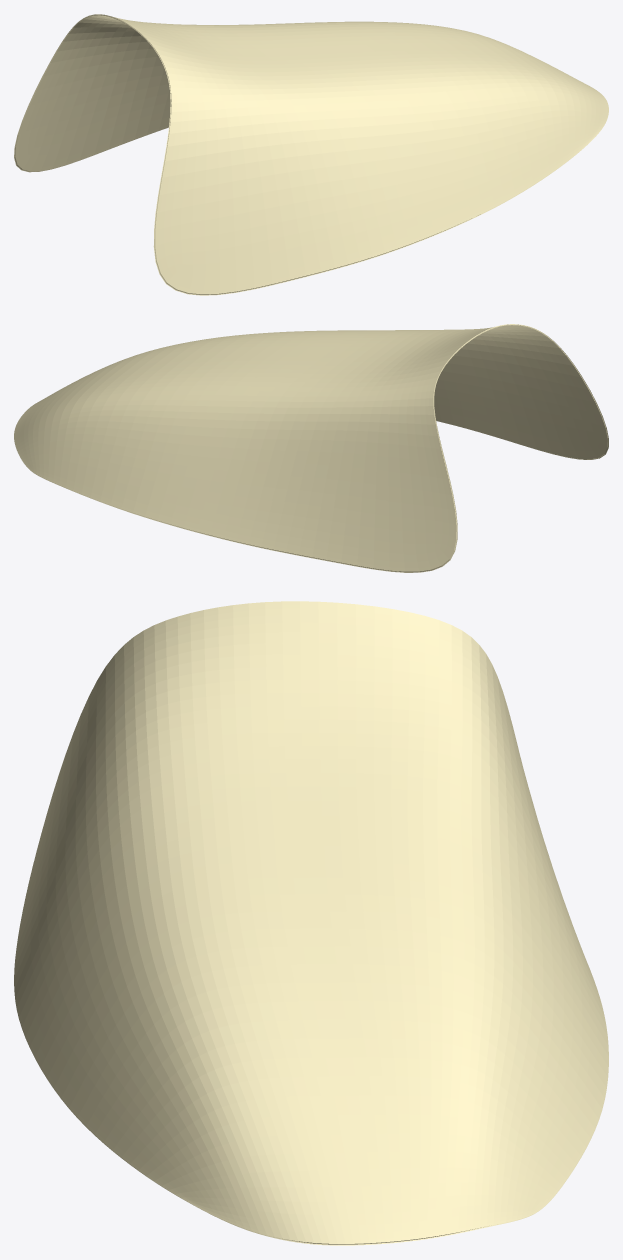
The model's file is frontRightCream.obj.
3 views of the same model, one above another, from view 1: azimuth 30°, elevation 25°; view 2: azimuth 150°, elevation 25°; view 3: azimuth 270°, elevation 25° (orthographic). The views are drawn at different scales.
Visible parts, largest first — view 1: Plane; view 2: Plane; view 3: Plane.
Boxes of the visible parts, box(x1,y1,x2,y2) form: Plane: box(14, 14, 608, 295); Plane: box(14, 324, 608, 572); Plane: box(14, 601, 608, 1245).
Bounding box in the file's own units: 14.6 × 5.14 × 9.
1 material, 1 textured.
